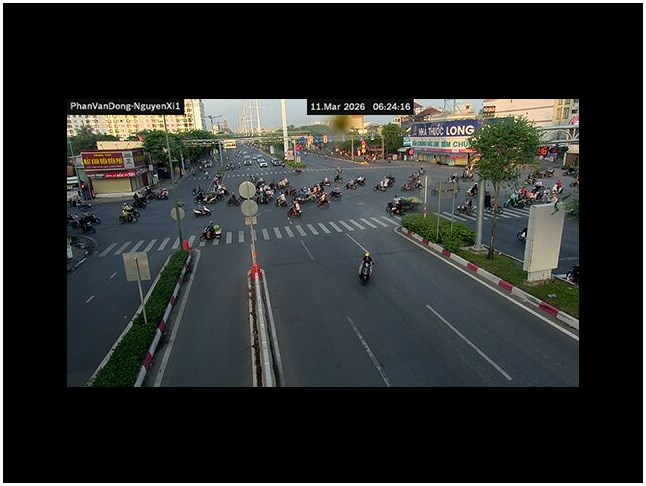motorbike: (358, 251, 375, 286), (119, 203, 139, 224), (287, 200, 302, 218), (317, 192, 331, 208)
